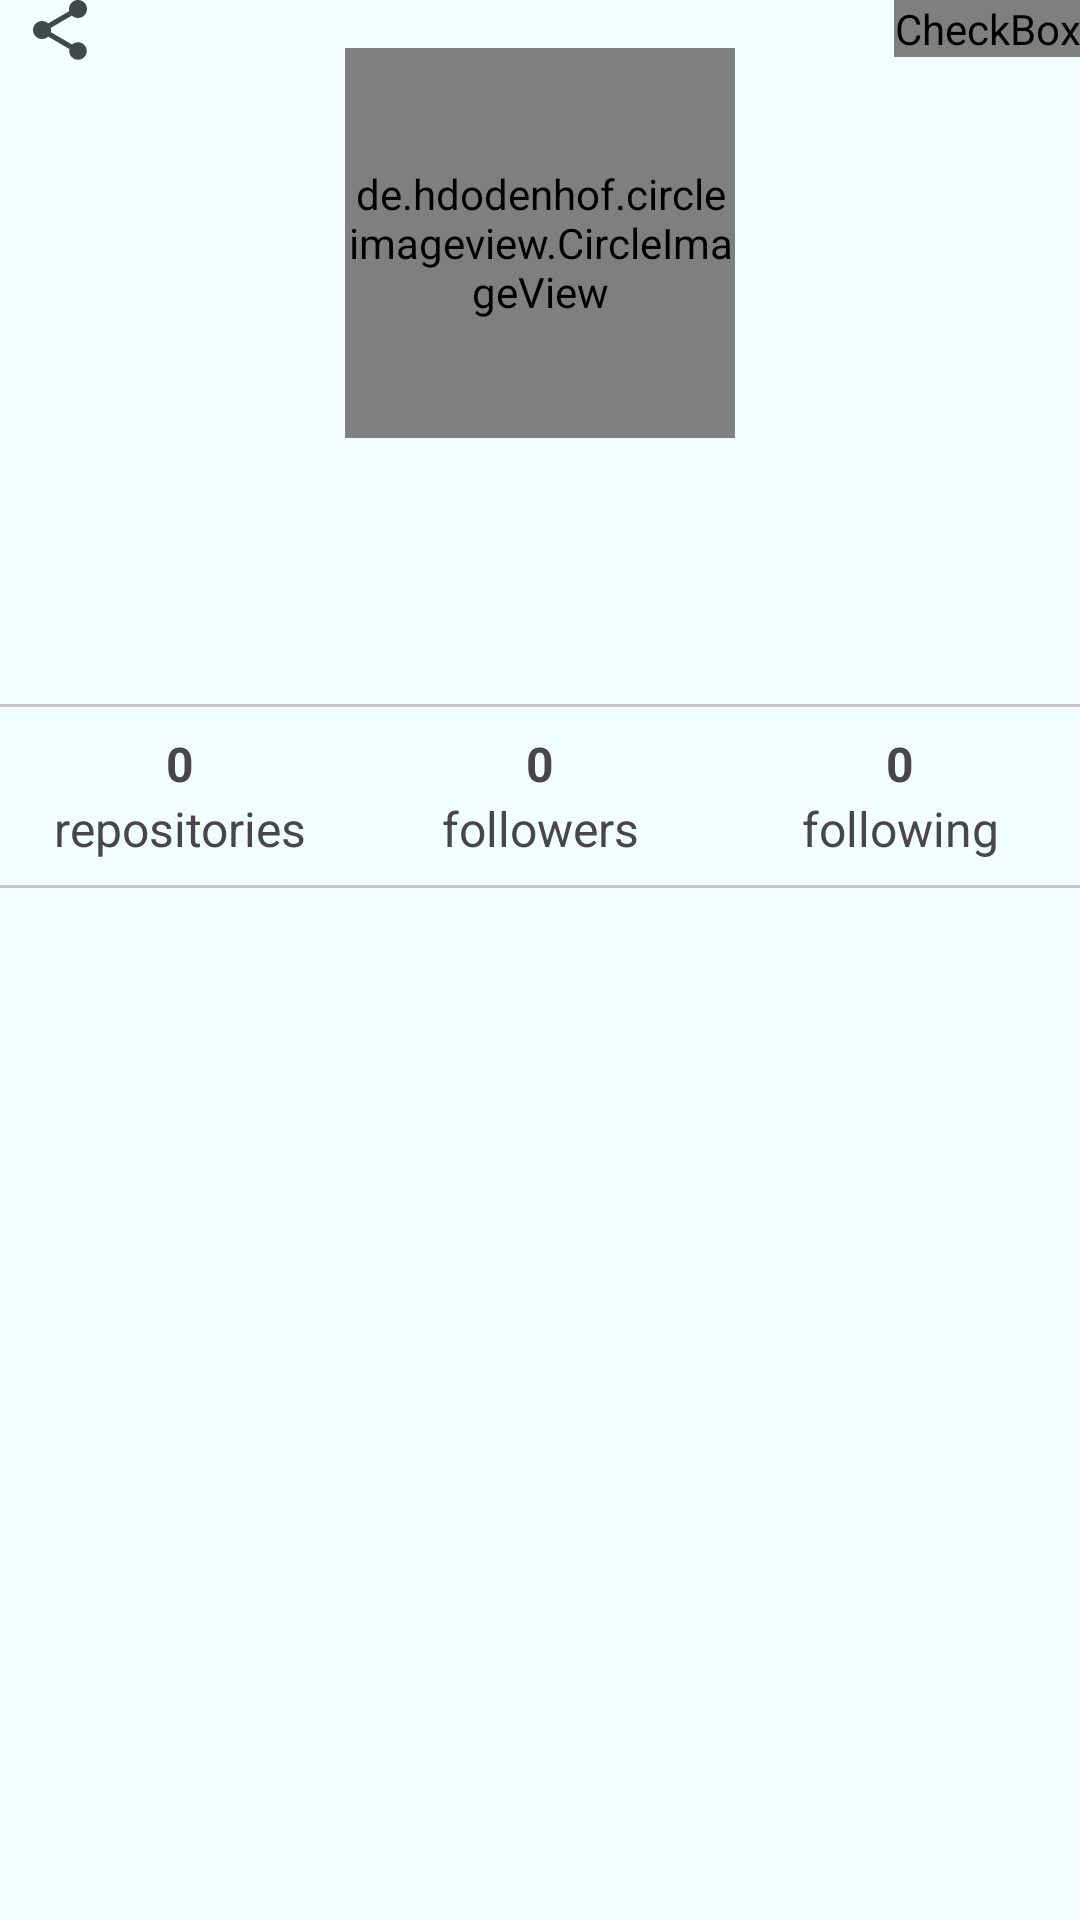

Icons on this 1080px x 1920px Android screen, each with the point to tap as [x,y]:
Share: [60,30]
